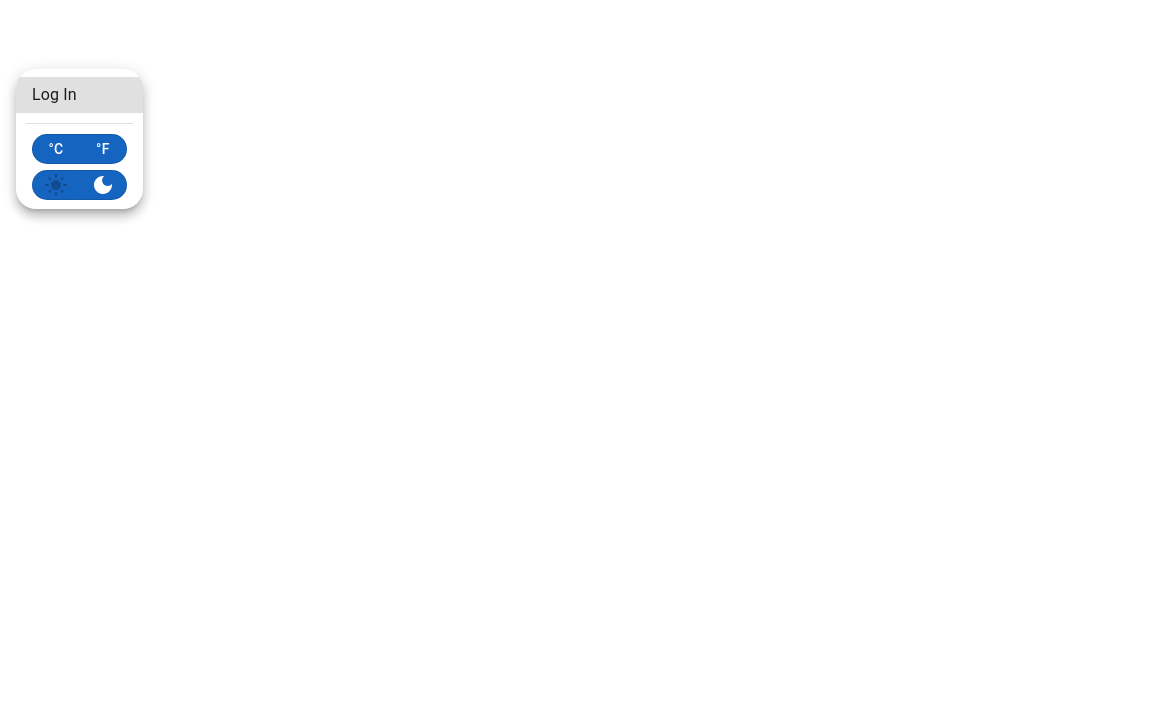
Test: NavBar/ProfileSettings/ProfileMenu › renders login menu item when user is not logged in
The width and height of the screenshot is (1152, 720).
Expected: the text "Log In" is shown, [32,83,77,107]
Click the menu item "Log In": (80, 95) [16,77,143,113]
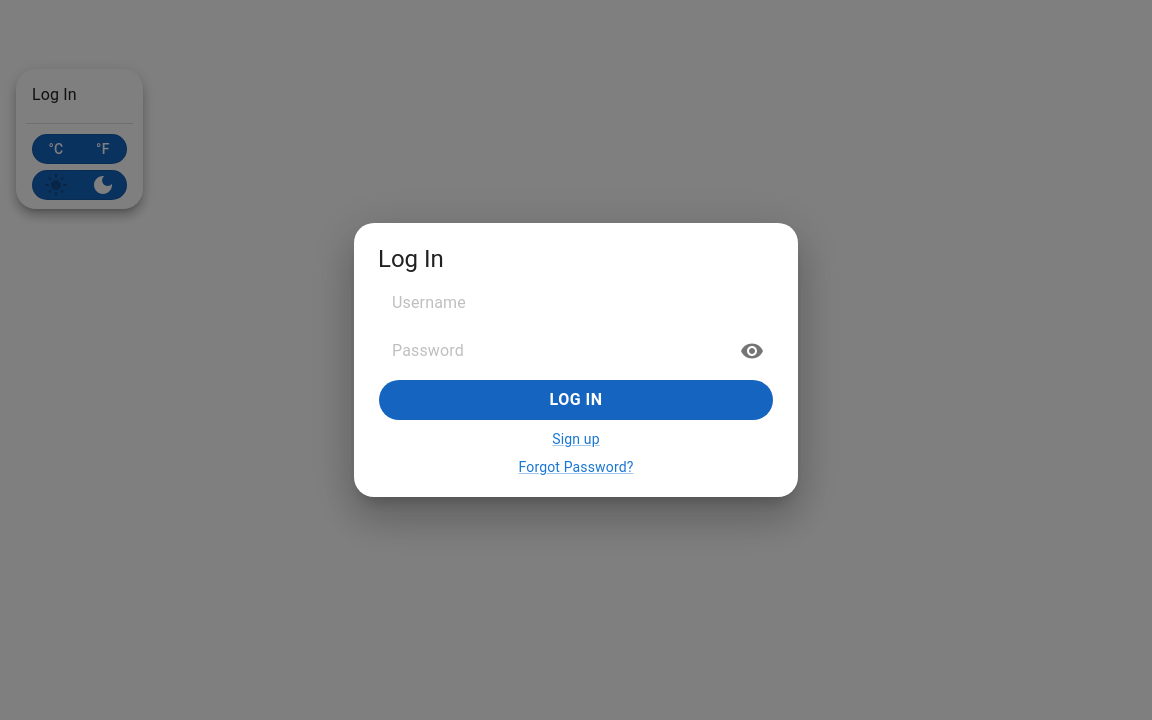
Expected: the element with test id "loginForm" is shown
